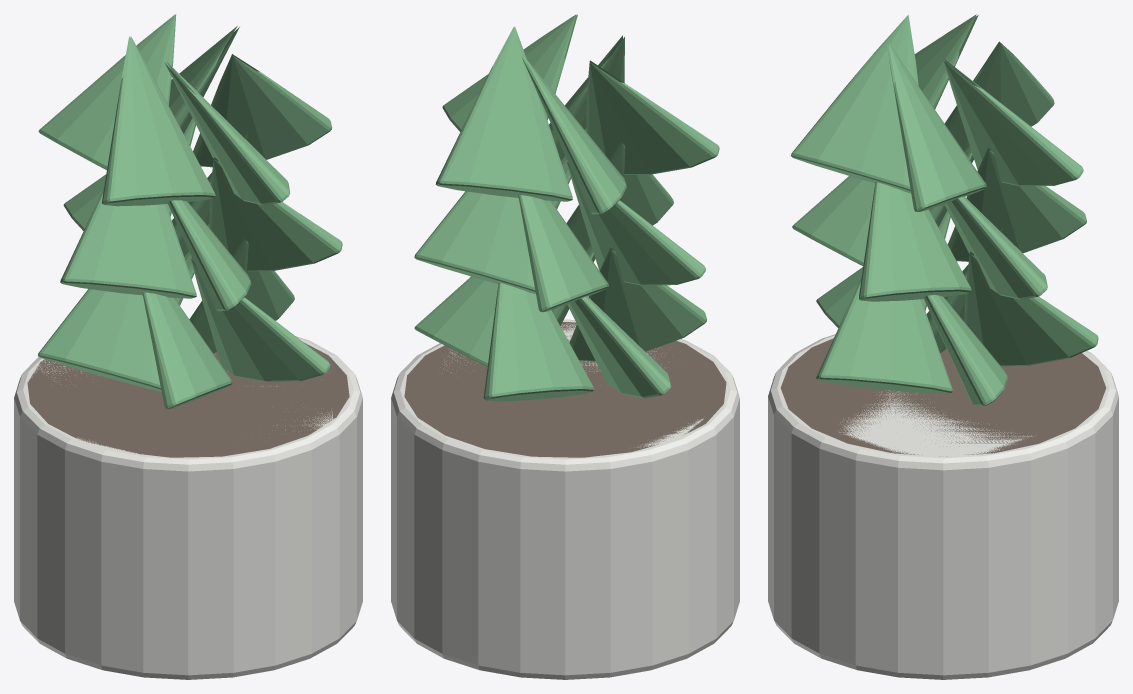
File: office_storage___organization_asset_sheet_91.glb
3 renders of one model, left to right at view 1: azimuth 30°, elevation 25°; view 2: azimuth 150°, elevation 25°; view 3: azimuth 270°, elevation 25°, orthographic.
Visible parts, largest first — view 1: Cylinder; view 2: Cylinder; view 3: Cylinder.
Boxes of the visible parts, <box> form: Cylinder: <box>14,14,362,679</box>; Cylinder: <box>391,14,739,679</box>; Cylinder: <box>768,14,1118,679</box>.
Size of the model in its own units: 0.546 by 0.9875 by 0.546.
